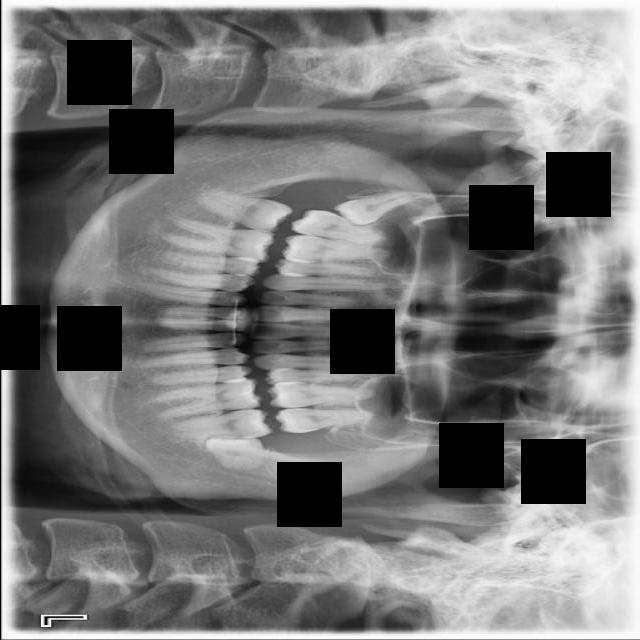3M ESPE Implant: (332, 188, 418, 230)
73: (38, 578, 53, 590)
BioHorizons Implant: (273, 407, 374, 437)
Biomet 3i Implant: (203, 434, 264, 471)
Blue Sky Bio Implant: (168, 406, 273, 447)
Caries: (287, 204, 386, 248)
Implant: (194, 186, 293, 238)
